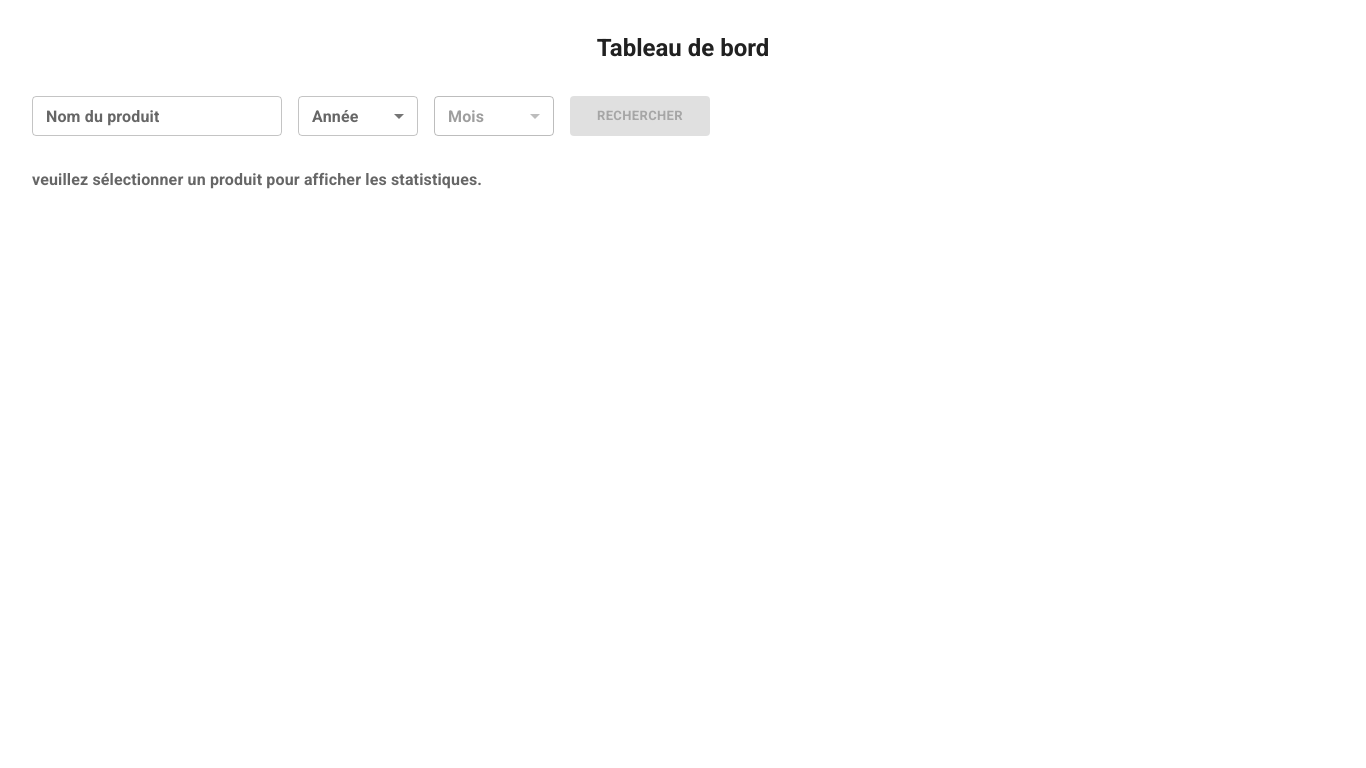
Scenario: DashboardPage › correctly displays statistics
The image size is (1366, 768).
In the dropdown labelled "Nom du produit": (140, 116) [38,102,243,130], type "Tomates"
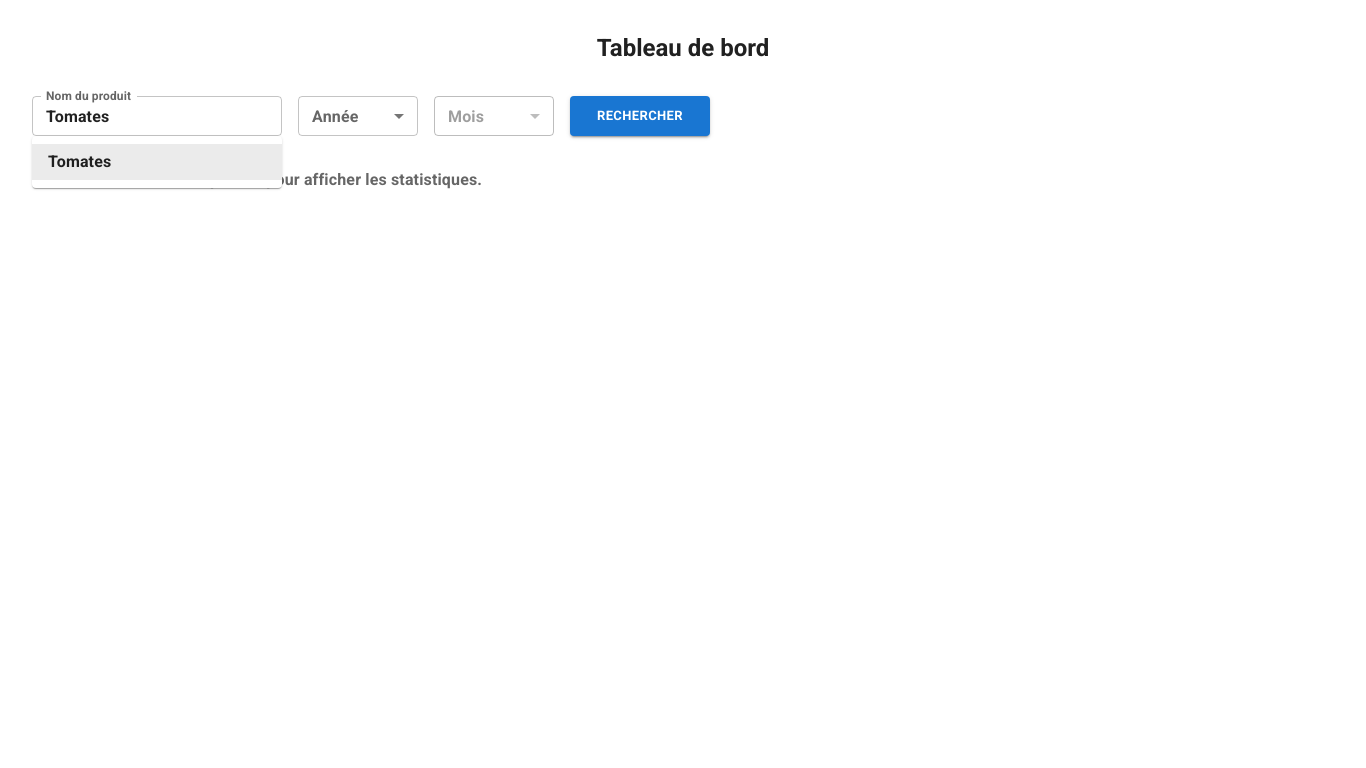
Click the button "Rechercher": (640, 116) [570,96,710,136]
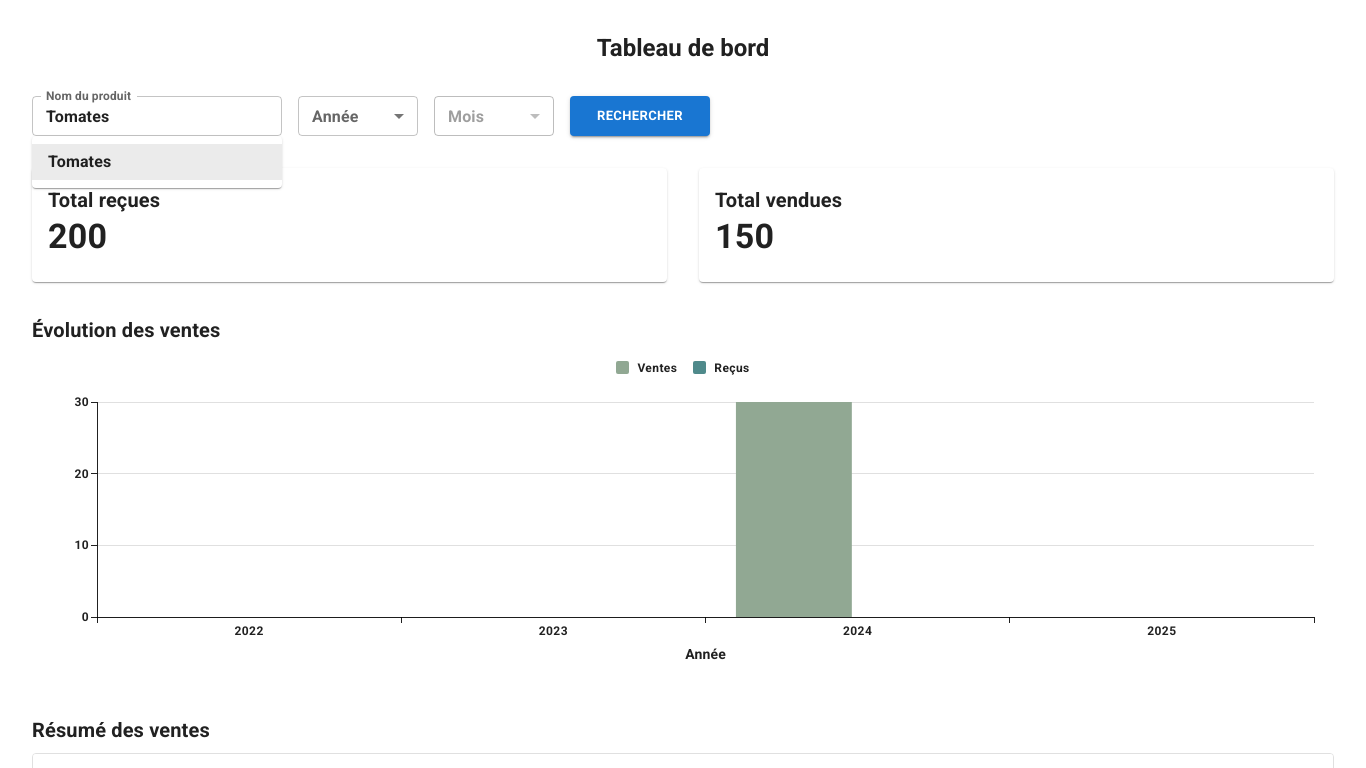
Check: the heading "Total reçues" is shown, box [48,188,160,212]
Check: the heading "200" is shown, box [48,216,107,256]
Check: the heading "150" is shown, box [715,216,774,256]
